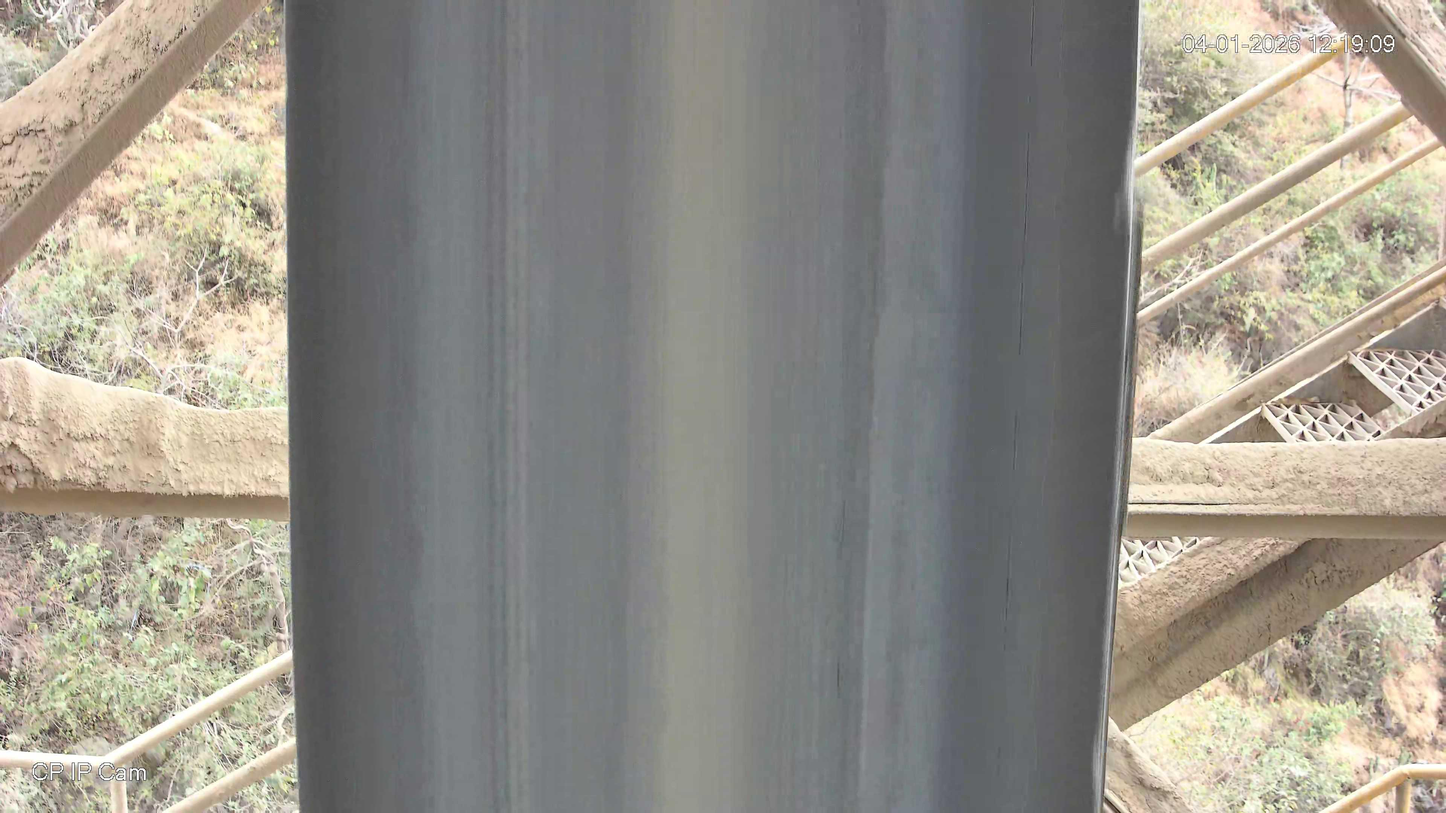belt_roi: (281, 0, 1144, 813)
